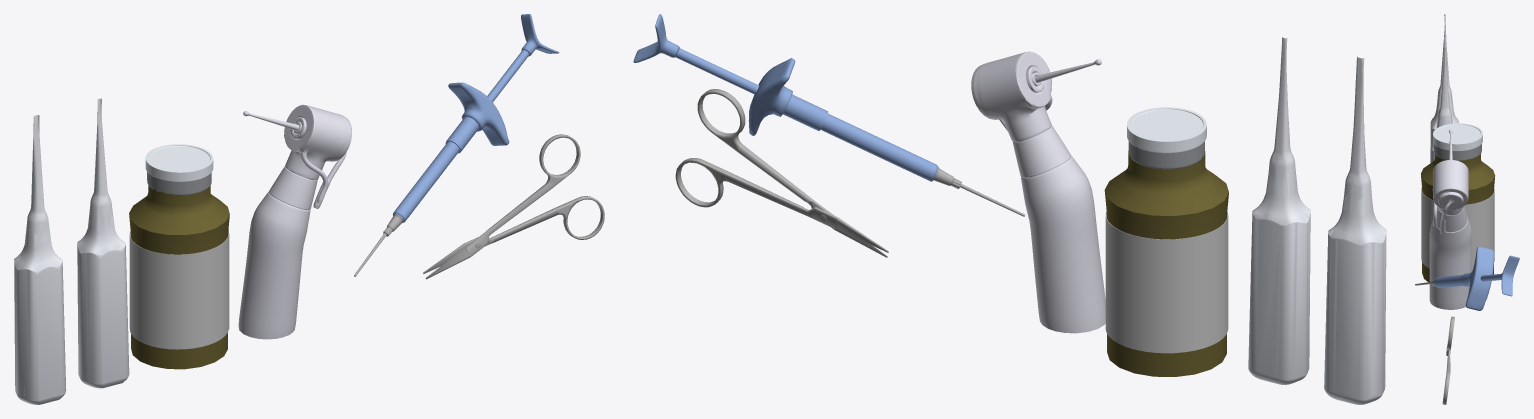
File: BeinIrigasiScssor.fbx
3 renders of one model, left to right at view 1: azimuth 30°, elevation 25°; view 2: azimuth 150°, elevation 25°; view 3: azimuth 270°, elevation 25°, orthographic. The views are drawn at different scales.
Parts seen in each view (by area): view 1: Retopo_Cylinder002, label, Bein2, Bein1, bottle, cap, scissor1, Retopo_Box002, scissor2, Retopo_Object001.001, botle_cap, Retopo_Box001 (+2 smaller); view 2: Retopo_Cylinder002, label, Bein2, Bein1, bottle, cap, scissor2, Retopo_Object001.001, scissor1, Retopo_Box002, botle_cap, Retopo_Object004.001 (+2 smaller); view 3: Retopo_Cylinder002, label, bottle, Retopo_Box002, cap, Bein1, Bein2, Retopo_Box001, botle_cap, Retopo_Object001.001, scissor2, scissor1 (+1 smaller).
Boxes of the visible parts, x1,y1,x2,y2 form: Retopo_Cylinder002: (238,104,351,339); label: (129,230,229,349); Bein2: (14,114,66,404); Bein1: (77,98,129,388); bottle: (129,185,229,369); cap: (145,144,213,181); scissor1: (425,134,580,279); Retopo_Box002: (448,82,509,145); scissor2: (423,196,604,273); Retopo_Object001.001: (393,141,459,222); botle_cap: (147,172,211,195); Retopo_Box001: (521,14,559,56); Retopo_Cylinder002: (971,51,1105,333); label: (1105,210,1228,353); Bein2: (1324,56,1386,404); Bein1: (1248,37,1310,384); bottle: (1104,150,1228,376); cap: (1127,107,1206,153); scissor2: (675,158,888,252); Retopo_Object001.001: (820,113,938,181); scissor1: (697,89,887,257); Retopo_Box002: (748,58,795,135); botle_cap: (1128,141,1204,169); Retopo_Object004.001: (675,48,759,94); Retopo_Cylinder002: (1429,160,1471,309); label: (1421,186,1494,270); bottle: (1421,154,1495,282); Retopo_Box002: (1465,246,1494,310); cap: (1433,123,1482,151); Bein1: (1430,36,1452,162); Bein2: (1430,14,1459,162); Retopo_Box001: (1500,255,1519,296); botle_cap: (1434,144,1481,160); Retopo_Object001.001: (1434,275,1463,287); scissor2: (1442,349,1450,404); scissor1: (1446,316,1454,355).
Size of the model in its own units: 496 by 231 by 104.
